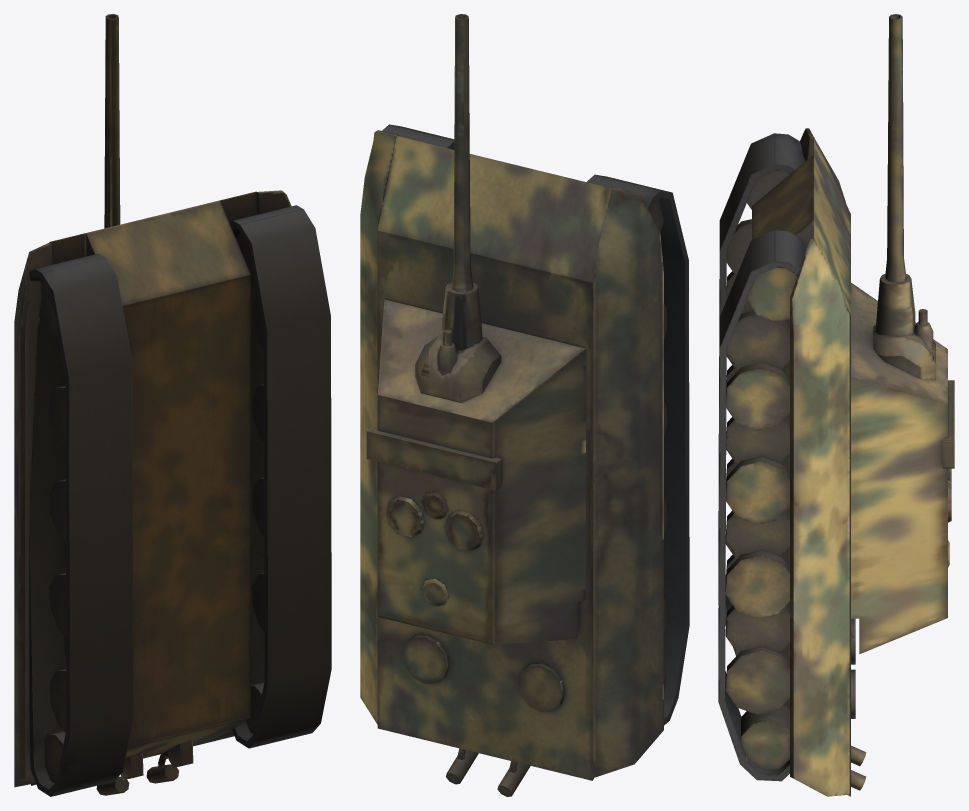
The picture shows the model from 3 angles, left to right: view 1: azimuth 30°, elevation 25°; view 2: azimuth 150°, elevation 25°; view 3: azimuth 270°, elevation 25°; orthographic projection. The views are drawn at different scales.
Visible parts, largest first — view 1: E-100 Body, E-100 Turret; view 2: E-100 Body, E-100 Turret; view 3: E-100 Body, E-100 Turret.
Boxes of the visible parts, x1=… form: E-100 Body: x1=14, y1=190, x2=331, y2=796; E-100 Turret: x1=104, y1=14, x2=120, y2=228; E-100 Body: x1=360, y1=124, x2=689, y2=796; E-100 Turret: x1=366, y1=14, x2=585, y2=644; E-100 Body: x1=718, y1=128, x2=866, y2=796; E-100 Turret: x1=851, y1=14, x2=954, y2=654.
Bounding box in the file's own units: 145 × 365 × 103.
